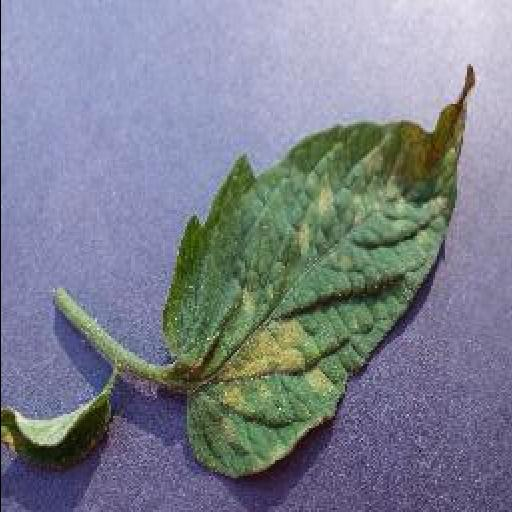disease_tomato: (160, 72, 474, 480)
